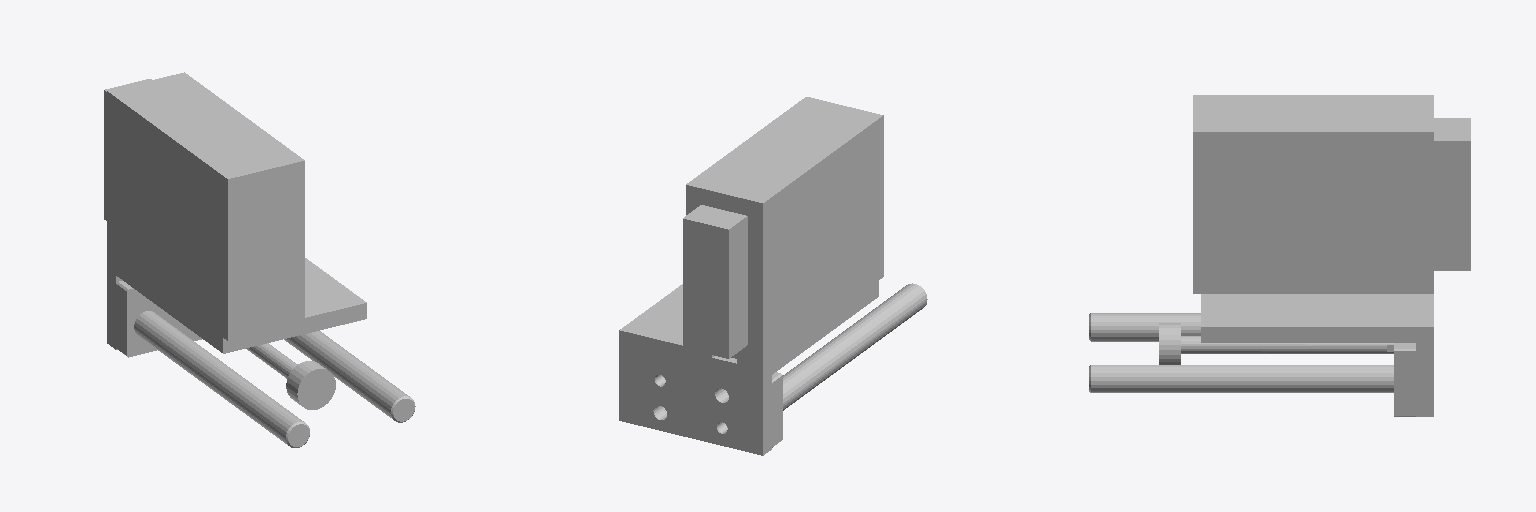
File: slider.obj
3 views of the same model, side by side, from view 1: azimuth 30°, elevation 25°; view 2: azimuth 150°, elevation 25°; view 3: azimuth 270°, elevation 25° (orthographic).
Parts seen in each view (by area): view 1: Slider_part; view 2: Slider_part; view 3: Slider_part.
Boxes of the visible parts, box(x1,y1,x2,y2) form: Slider_part: box(104, 72, 415, 447); Slider_part: box(619, 97, 927, 455); Slider_part: box(1089, 95, 1470, 416).
Size of the model in its own units: 0.9294 by 1.56 by 2.14.